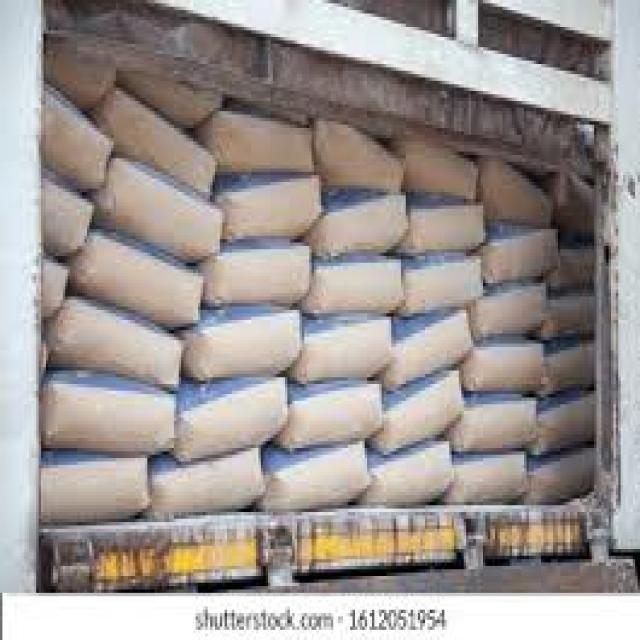cement_bag: (107, 89, 216, 200), (107, 160, 227, 258), (65, 298, 186, 387), (94, 234, 199, 318), (52, 379, 173, 451), (181, 384, 291, 461), (161, 445, 266, 522), (43, 456, 145, 525), (43, 99, 120, 190), (291, 377, 382, 453), (219, 109, 313, 180), (277, 443, 371, 514), (229, 173, 318, 246), (318, 116, 402, 190), (307, 313, 391, 387), (384, 376, 464, 453), (372, 440, 454, 514), (205, 313, 295, 379), (397, 315, 472, 389), (459, 394, 541, 461), (316, 256, 401, 318), (326, 195, 408, 259), (400, 138, 479, 199), (475, 280, 548, 344), (216, 246, 298, 301), (543, 386, 603, 460), (39, 175, 98, 248), (531, 446, 598, 510), (409, 254, 479, 313), (454, 453, 526, 509), (494, 231, 554, 290), (414, 200, 484, 249), (476, 347, 546, 394), (485, 177, 548, 227), (548, 345, 595, 396), (551, 296, 597, 337)
